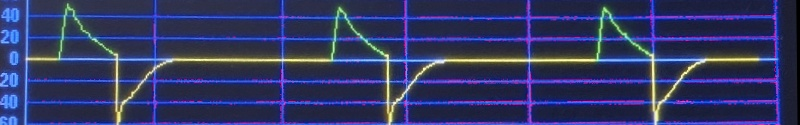normal_flow: (21, 0, 719, 125)
